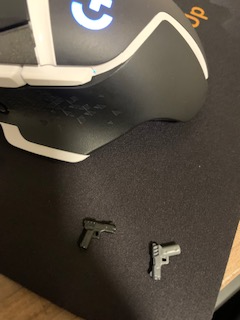pistol: (146, 239, 183, 285), (77, 217, 119, 254)
